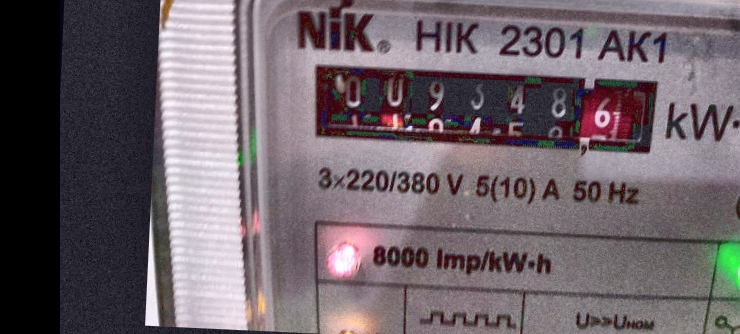0: (384, 72, 407, 109), (343, 72, 365, 108)
3: (466, 77, 489, 110)
4: (506, 79, 528, 117)
6: (592, 93, 616, 128)
8: (549, 83, 570, 118)
9: (427, 75, 446, 110)
screen: (289, 48, 678, 168)
